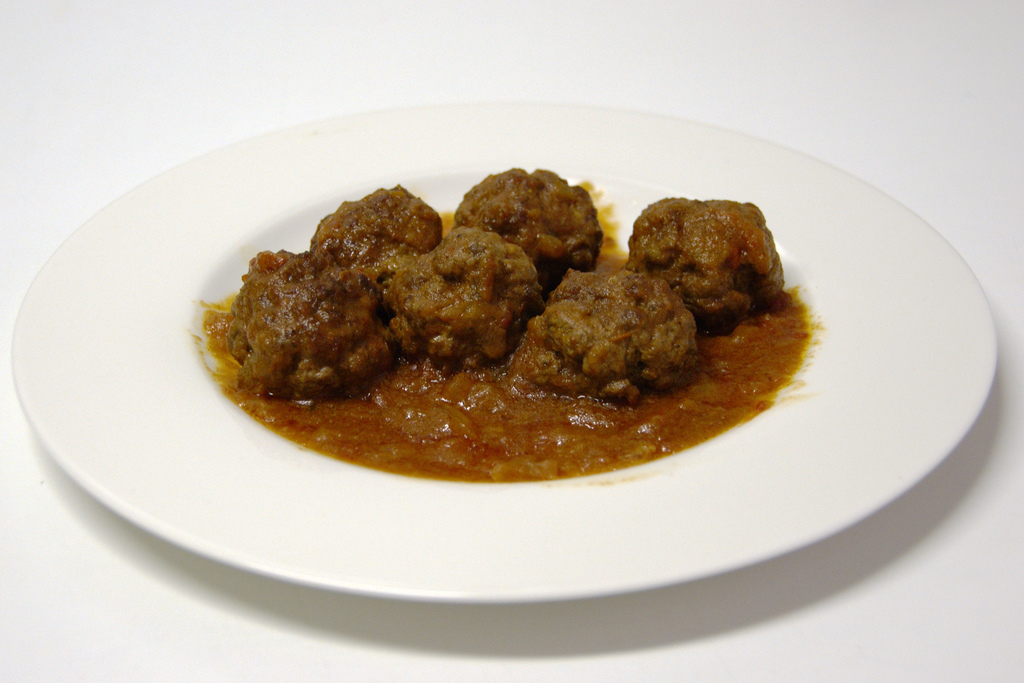meatballs: (622, 179, 801, 318), (524, 248, 693, 377), (240, 254, 388, 389), (396, 233, 532, 364), (455, 171, 611, 264)
